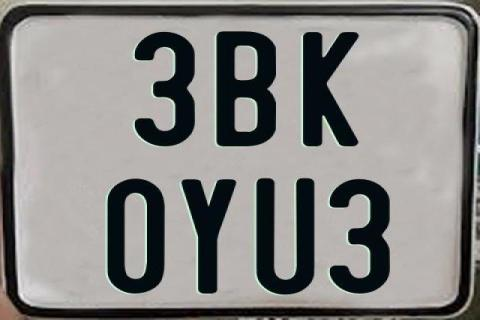0: (104, 178, 168, 296), (329, 180, 394, 294), (133, 31, 194, 145)
B: (216, 31, 277, 149)
K: (300, 31, 356, 151)
U: (254, 179, 313, 297)
Y: (181, 179, 236, 296)
